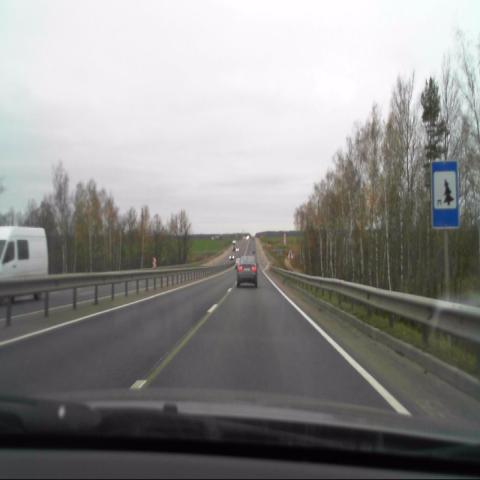7_11: (433, 161, 458, 229)
